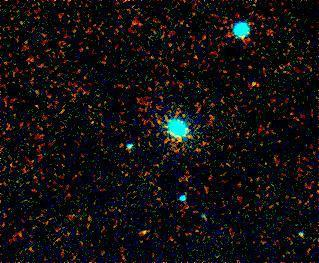star: (130, 216, 160, 246)
